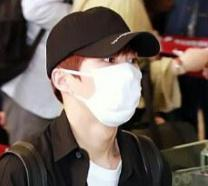OK: (81, 45, 143, 127)
